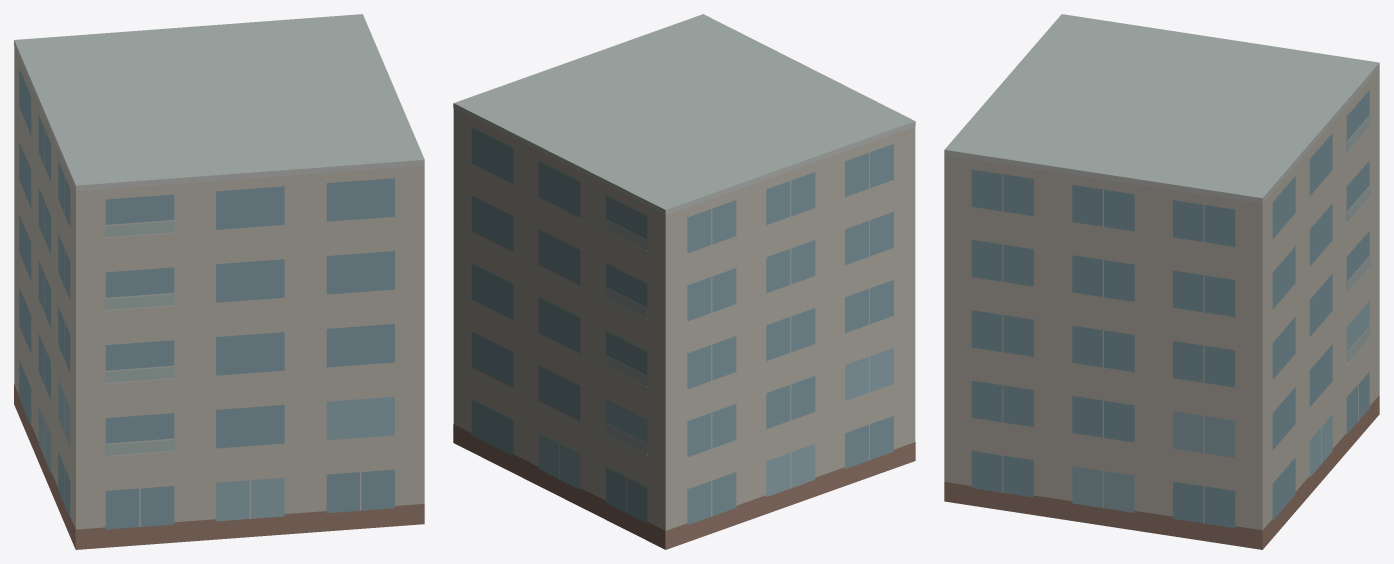
File: survey-upis-33015947.glb
The picture shows the model from 3 angles, left to right: view 1: azimuth 30°, elevation 25°; view 2: azimuth 150°, elevation 25°; view 3: azimuth 270°, elevation 25°; orthographic projection. The views are drawn at different scales.
Visible parts, largest first — view 1: survey-upis-33015947.tmp; view 2: survey-upis-33015947.tmp; view 3: survey-upis-33015947.tmp.
Boxes of the visible parts, x1,y1,x2,y2 form: survey-upis-33015947.tmp: [14, 14, 424, 549]; survey-upis-33015947.tmp: [453, 14, 915, 549]; survey-upis-33015947.tmp: [944, 14, 1379, 549].
Bounding box in the file's own units: 17.48 × 15.55 × 17.45.
